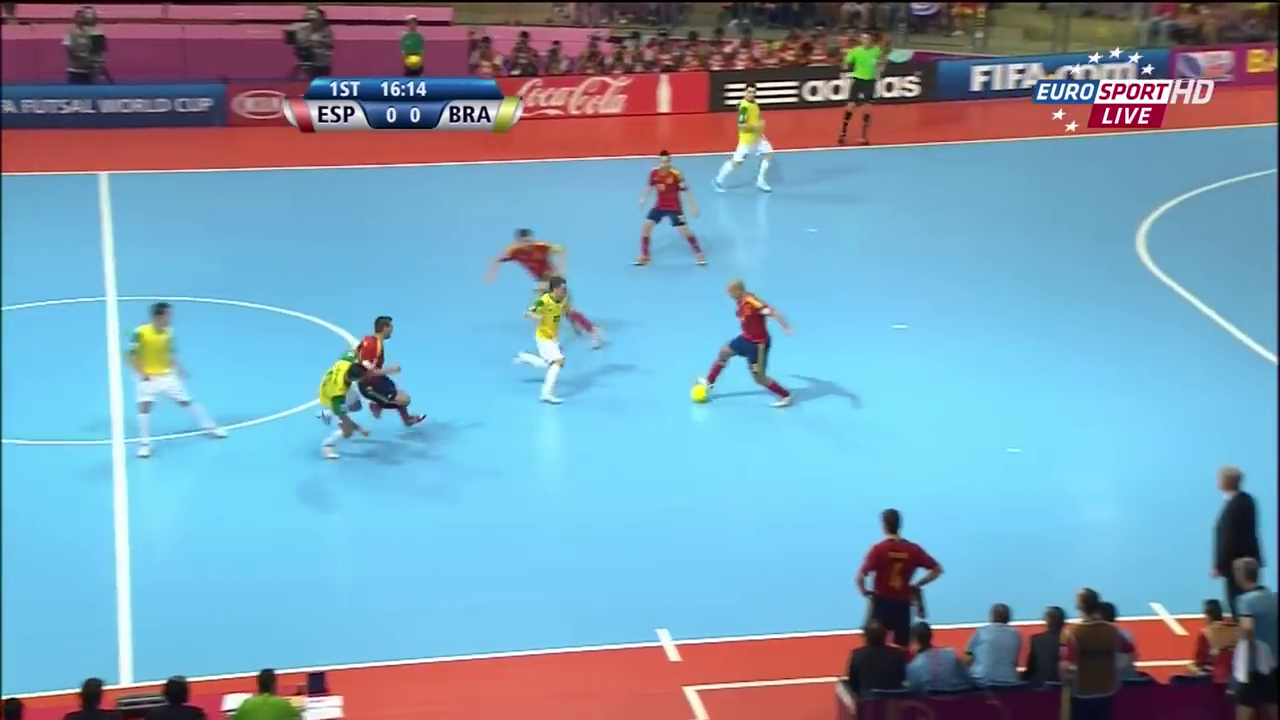ball: (686, 377, 710, 406)
person: (117, 290, 231, 456), (486, 224, 600, 345), (702, 265, 789, 408), (854, 501, 933, 644), (629, 145, 705, 267), (510, 279, 579, 408), (350, 313, 427, 428), (717, 72, 775, 198), (316, 351, 364, 466)
